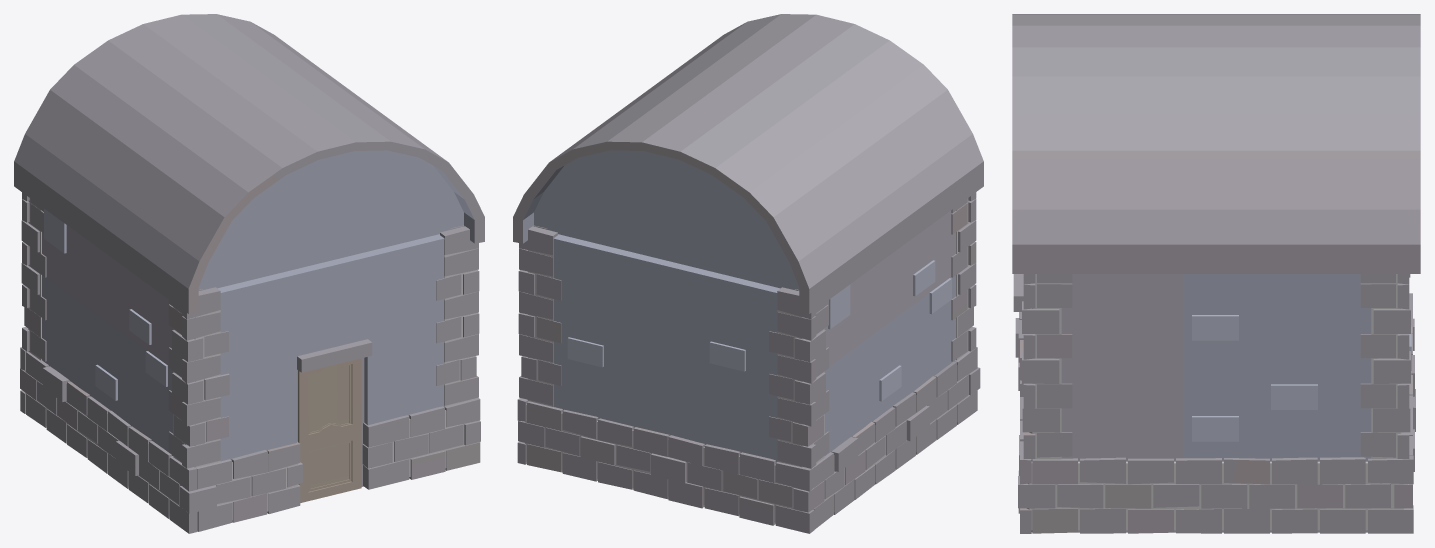
Rendered from cottage-round.glb.
The picture shows the model from 3 angles, left to right: view 1: azimuth 30°, elevation 25°; view 2: azimuth 150°, elevation 25°; view 3: azimuth 270°, elevation 25°; orthographic projection. The views are drawn at different scales.
Visible parts, largest first — view 1: 1Story_RoundRoof; view 2: 1Story_RoundRoof; view 3: 1Story_RoundRoof.
Part boxes in pixels (<box>): 1Story_RoundRoof: <box>14,14,484,533</box>; 1Story_RoundRoof: <box>513,14,983,533</box>; 1Story_RoundRoof: <box>1012,14,1420,533</box>.
Size of the model in its own units: 0.9816 by 1.12 by 1.
Materials: 1 (1 with a texture image).
